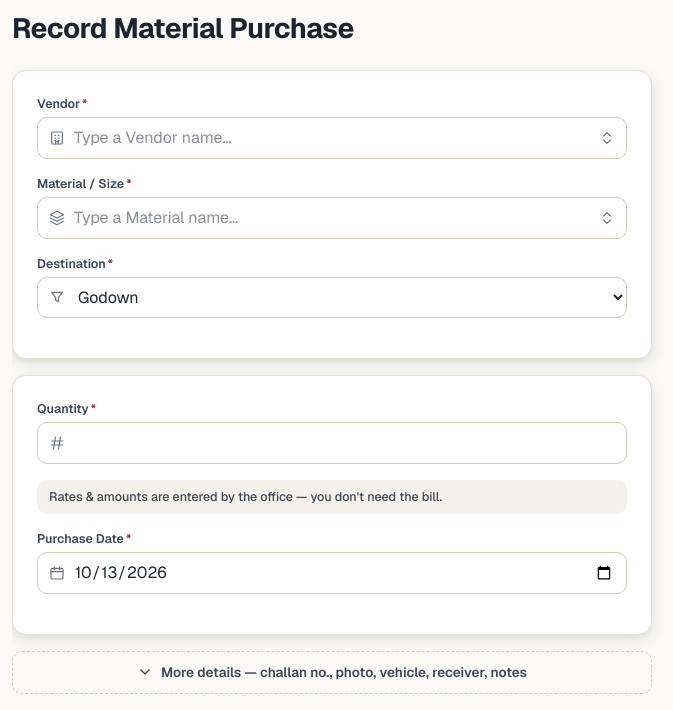
Test: NewPurchasePage › flattens each Material's Sizes into Material/Size picker options
This screenshot has width=673, height=710.
Type "cement" into the dropdown labelled "Material / Size" at (332, 218), box [37,197,627,239]
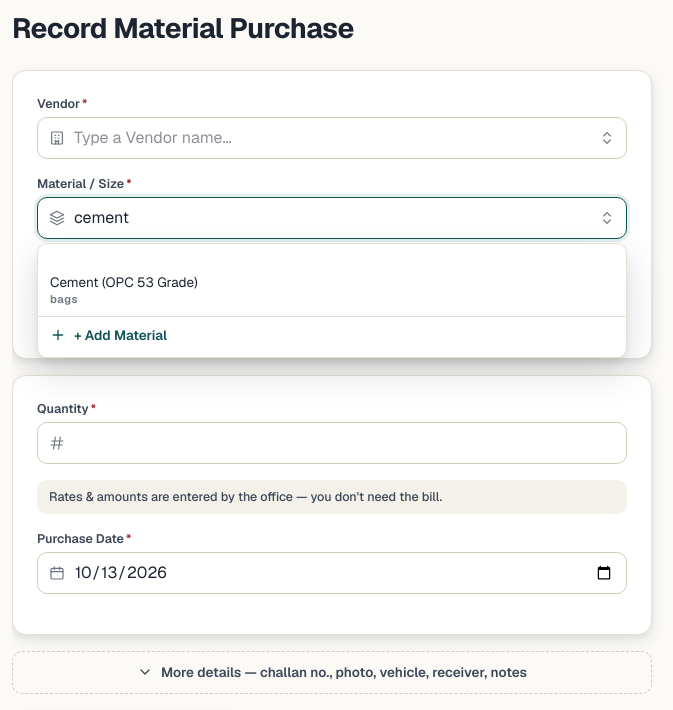
Check: the text "Cement (OPC 53 Grade)" is shown, box [50,272,198,292]
